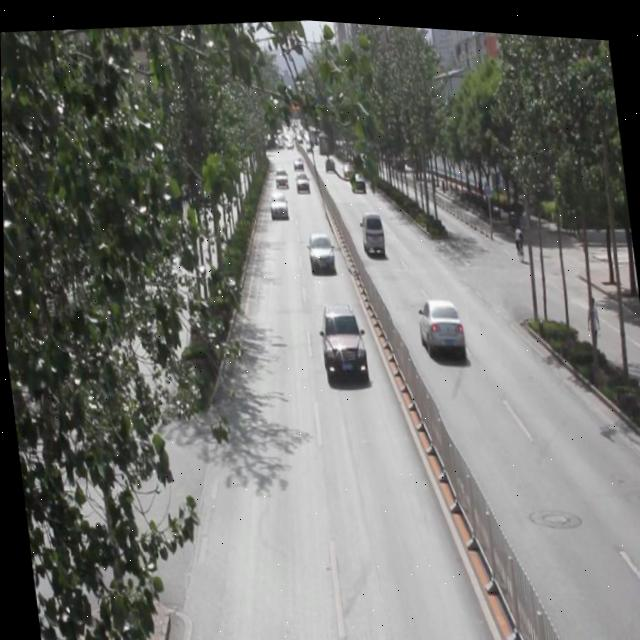car: (314, 294, 368, 372), (413, 287, 466, 359), (304, 225, 335, 270), (266, 184, 287, 216), (349, 164, 368, 189), (293, 165, 309, 191), (272, 160, 288, 185), (340, 155, 354, 177), (322, 149, 335, 170), (291, 150, 304, 169)
truck: (357, 204, 384, 248)
